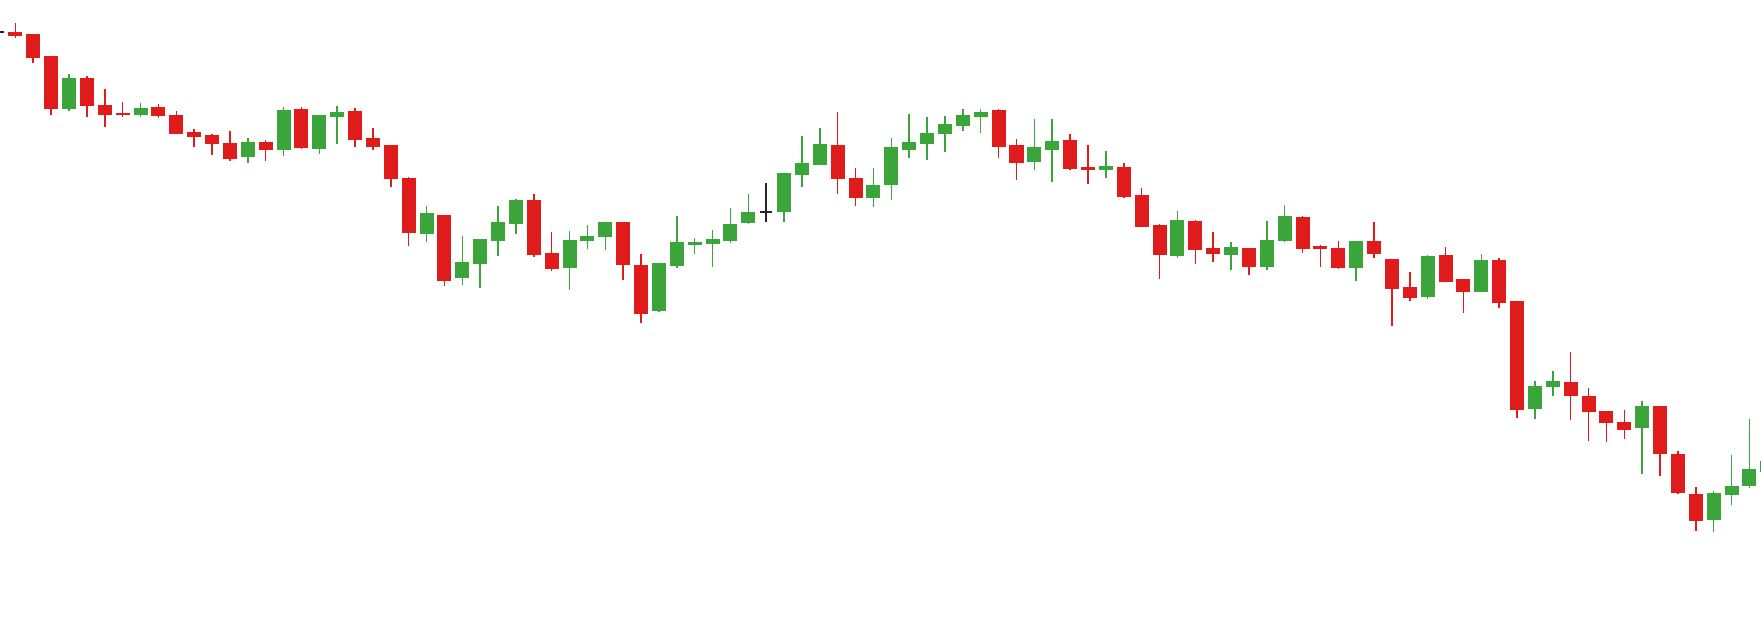buy: (560, 232, 670, 322)
